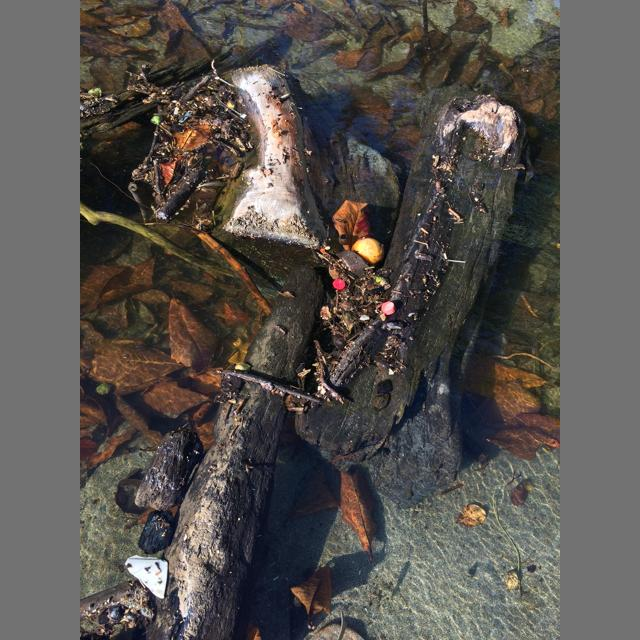litter: (125, 555, 168, 598), (382, 302, 395, 315), (333, 279, 345, 291), (179, 112, 192, 123)
